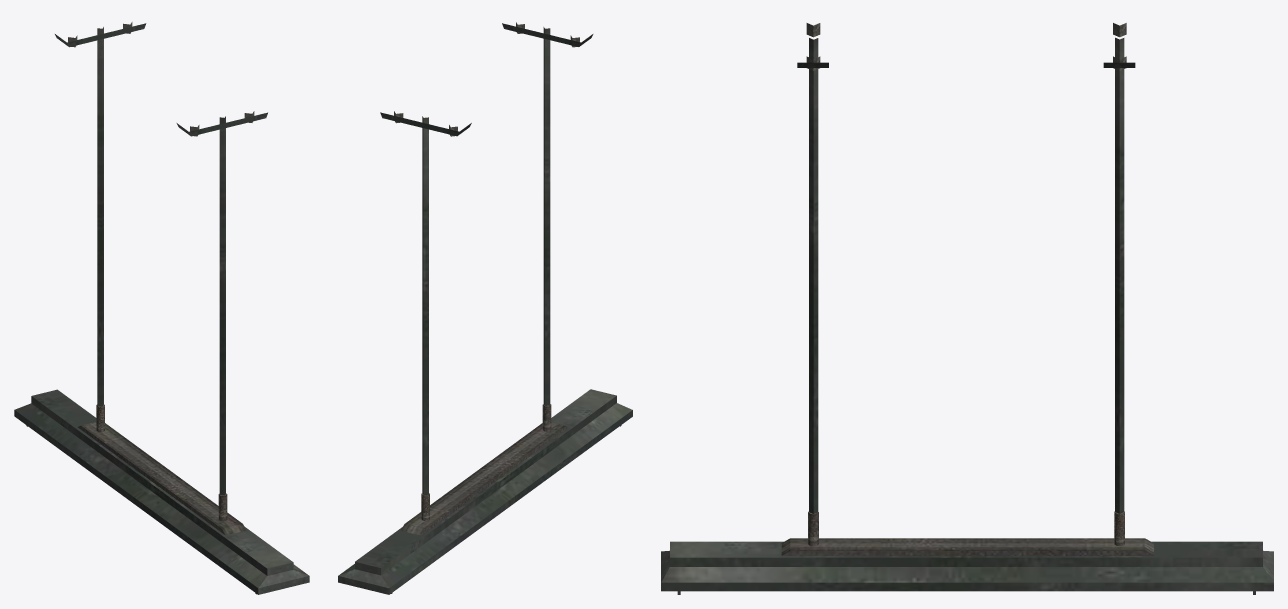
Rendered from prison_flourescentlight001a.glb.
The picture shows the model from 3 angles, left to right: view 1: azimuth 30°, elevation 25°; view 2: azimuth 150°, elevation 25°; view 3: azimuth 270°, elevation 25°; orthographic projection. The views are drawn at different scales.
Parts seen in each view (by area): view 1: 0_prison_objects004; view 2: 0_prison_objects004; view 3: 0_prison_objects004.
Part boxes in pixels (bbox=[...]): 0_prison_objects004: bbox=[14, 22, 309, 594]; 0_prison_objects004: bbox=[338, 22, 632, 594]; 0_prison_objects004: bbox=[661, 23, 1273, 594].
Size of the model in its own units: 0.3161 by 1.65 by 1.68.
1 material, 1 textured.
